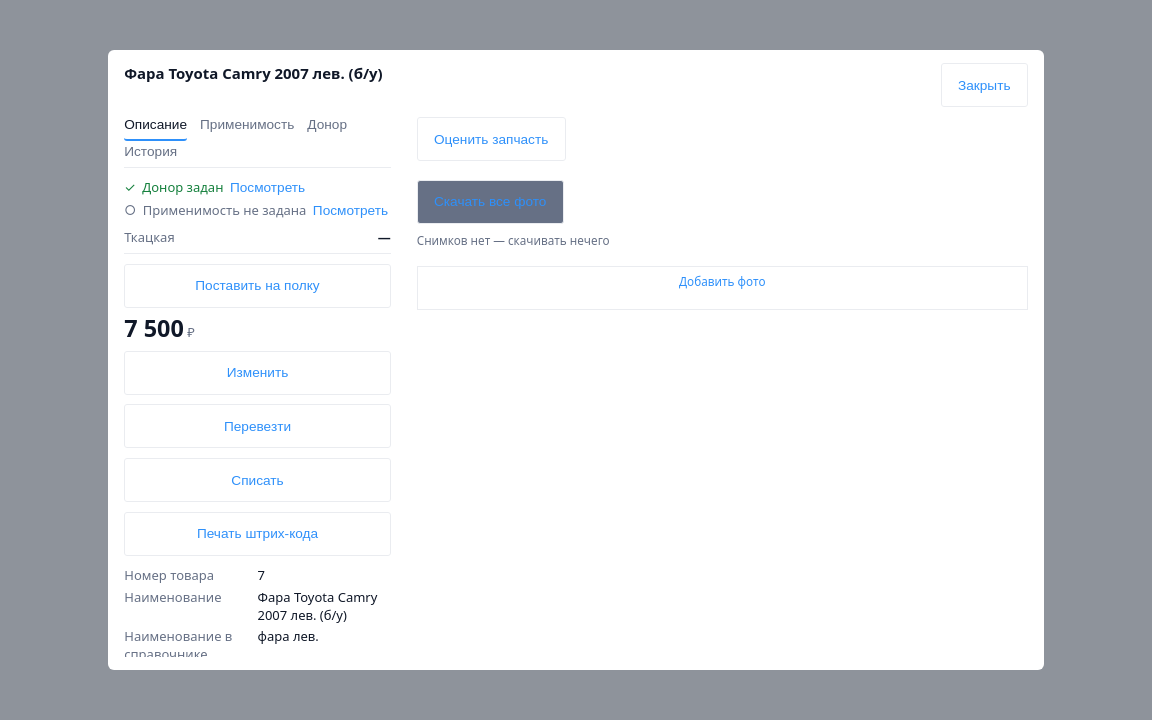
текстовый блок в карточке позиции › закрытая строка называет блок по имени, а не номером
The width and height of the screenshot is (1152, 720).
Click the button "Изменить" at (258, 373), box top-left (124, 351), bottom-right (391, 395)
(page scrolled)
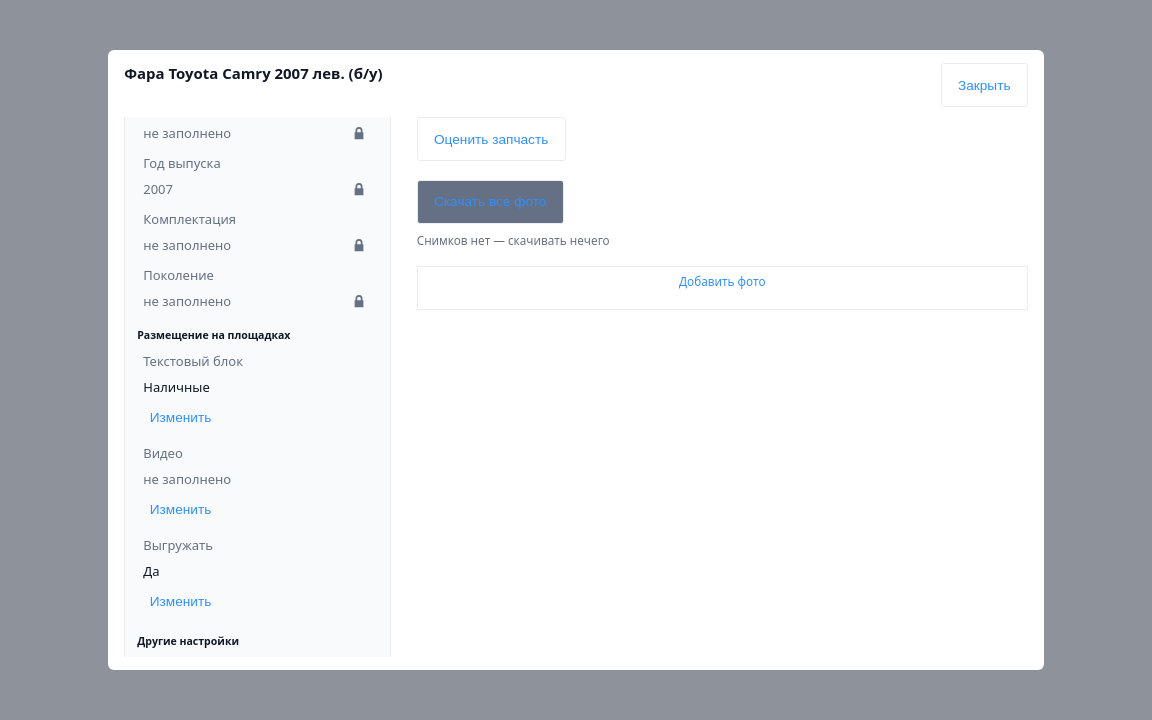
Check: the text with class "card-edit__value" reads "Наличные", box top-left (143, 378), bottom-right (210, 396)
